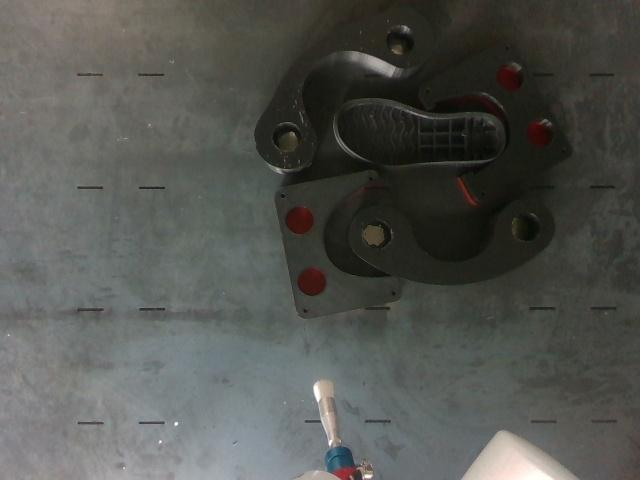shoes: (337, 100, 503, 165)
